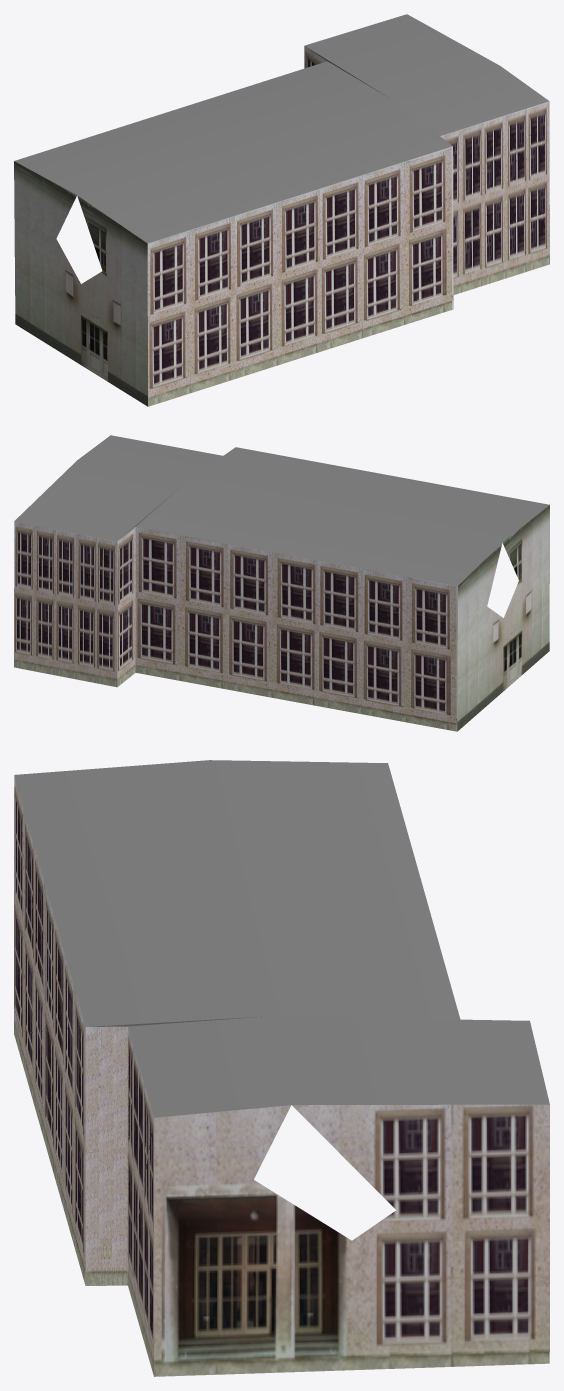
The model's file is Neuffer-Bau.gltf.
3 views of the same model, one above another, from view 1: azimuth 30°, elevation 25°; view 2: azimuth 150°, elevation 25°; view 3: azimuth 270°, elevation 25° (orthographic). The views are drawn at different scales.
Parts seen in each view (by area): view 1: Dach.1; view 2: Dach.1; view 3: Dach.1.
Part boxes in pixels (<box>): Dach.1: <box>14,14,549,406</box>; Dach.1: <box>14,435,549,731</box>; Dach.1: <box>14,760,549,1376</box>.
Size of the model in its own units: 37.29 by 13.1 by 23.66.
8 materials, 7 textured.
